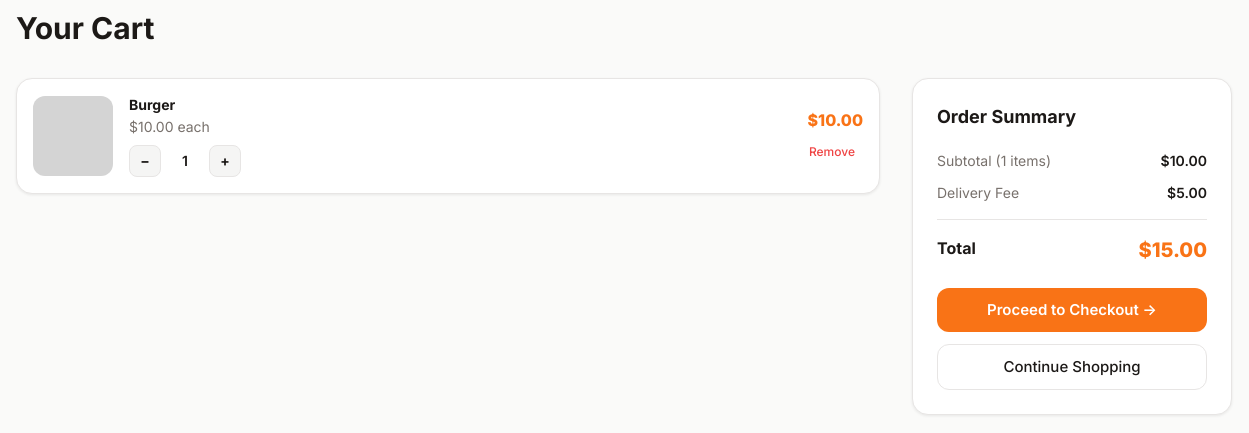
Scenario: CartPage › increments quantity and updates total
Click the button "+" at (225, 161), box x1=209 y1=145 x2=241 y2=177
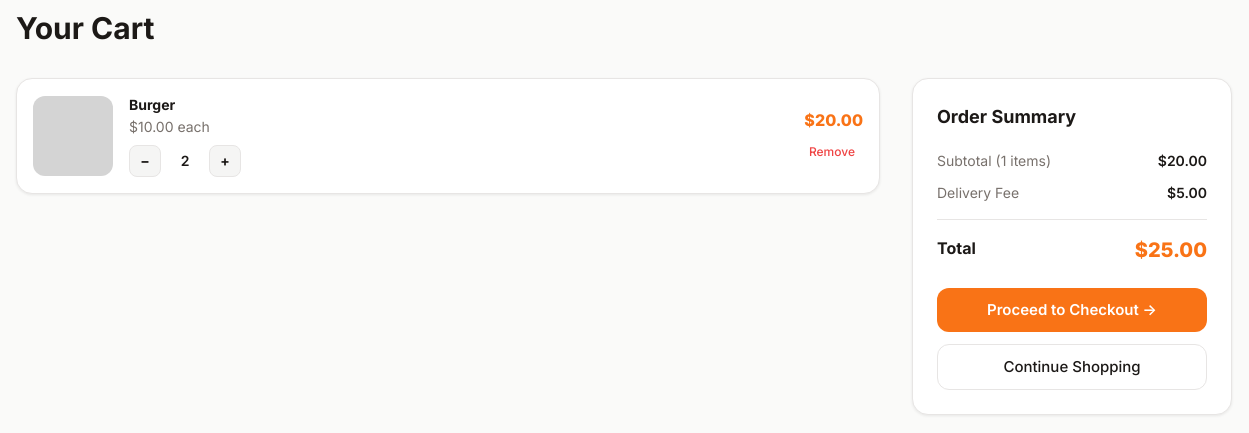
Now the text "$25.00" is shown, box x1=1135 y1=236 x2=1207 y2=264
